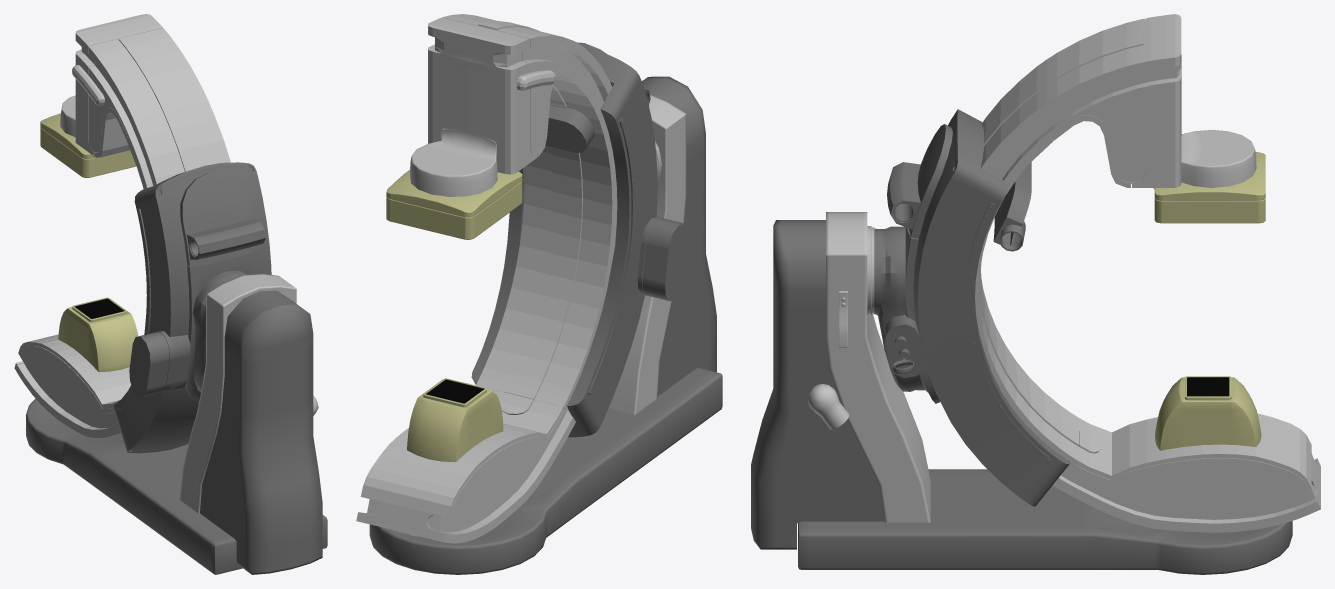
The model's file is C-ArmParts.fbx.
3 views of the same model, side by side, from view 1: azimuth 30°, elevation 25°; view 2: azimuth 150°, elevation 25°; view 3: azimuth 270°, elevation 25° (orthographic). The views are drawn at different scales.
Parts seen in each view (by area): view 1: Base1, Rotate1_1, C, CArm, Base2, Bottom, CamTop, CamBottom, TopDrop; view 2: C, Rotate1_1, CArm, Base1, Base2, CamTop, Bottom, TopDrop, CamBottom; view 3: C, Rotate1_1, CArm, Base1, Base2, Bottom, CamTop, TopDrop, CamBottom.
Boxes of the visible parts, x1,y1,x2,y2 form: Base1: (200, 290, 322, 574); Rotate1_1: (113, 162, 271, 453); C: (14, 14, 230, 437); CArm: (26, 398, 327, 574); Base2: (179, 273, 318, 513); Bottom: (58, 297, 138, 372); CamTop: (40, 113, 136, 177); CamBottom: (75, 298, 124, 318); TopDrop: (60, 95, 75, 137); C: (356, 14, 617, 543); Rotate1_1: (471, 42, 689, 437); CArm: (369, 368, 722, 574); Base1: (642, 76, 716, 396); Base2: (608, 94, 686, 414); CamTop: (386, 170, 522, 239); Bottom: (407, 378, 503, 462); TopDrop: (410, 128, 498, 196); CamBottom: (426, 379, 484, 403); C: (975, 14, 1320, 532); Rotate1_1: (874, 109, 1070, 506); CArm: (798, 469, 1292, 574); Base1: (751, 220, 884, 549); Base2: (807, 212, 930, 522); Bottom: (1155, 376, 1261, 450); CamTop: (1154, 152, 1265, 223); TopDrop: (1181, 130, 1256, 188); CamBottom: (1187, 377, 1229, 396).
Bounding box in the file's own units: 79.18 × 218 × 224.
